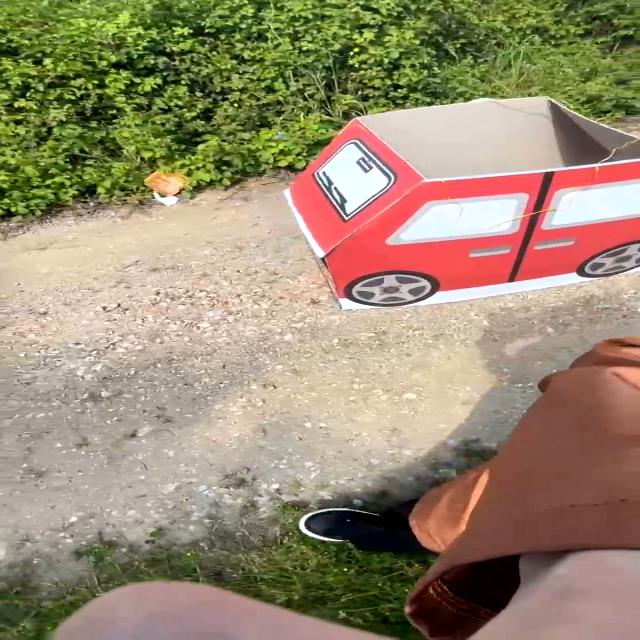red_car: (244, 82, 640, 331)
